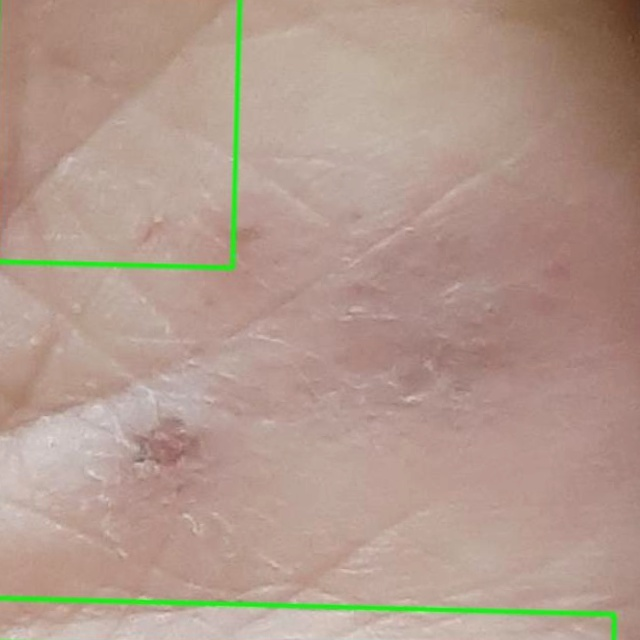Contact Dermatitis: (0, 0, 239, 267), (0, 598, 614, 639)
